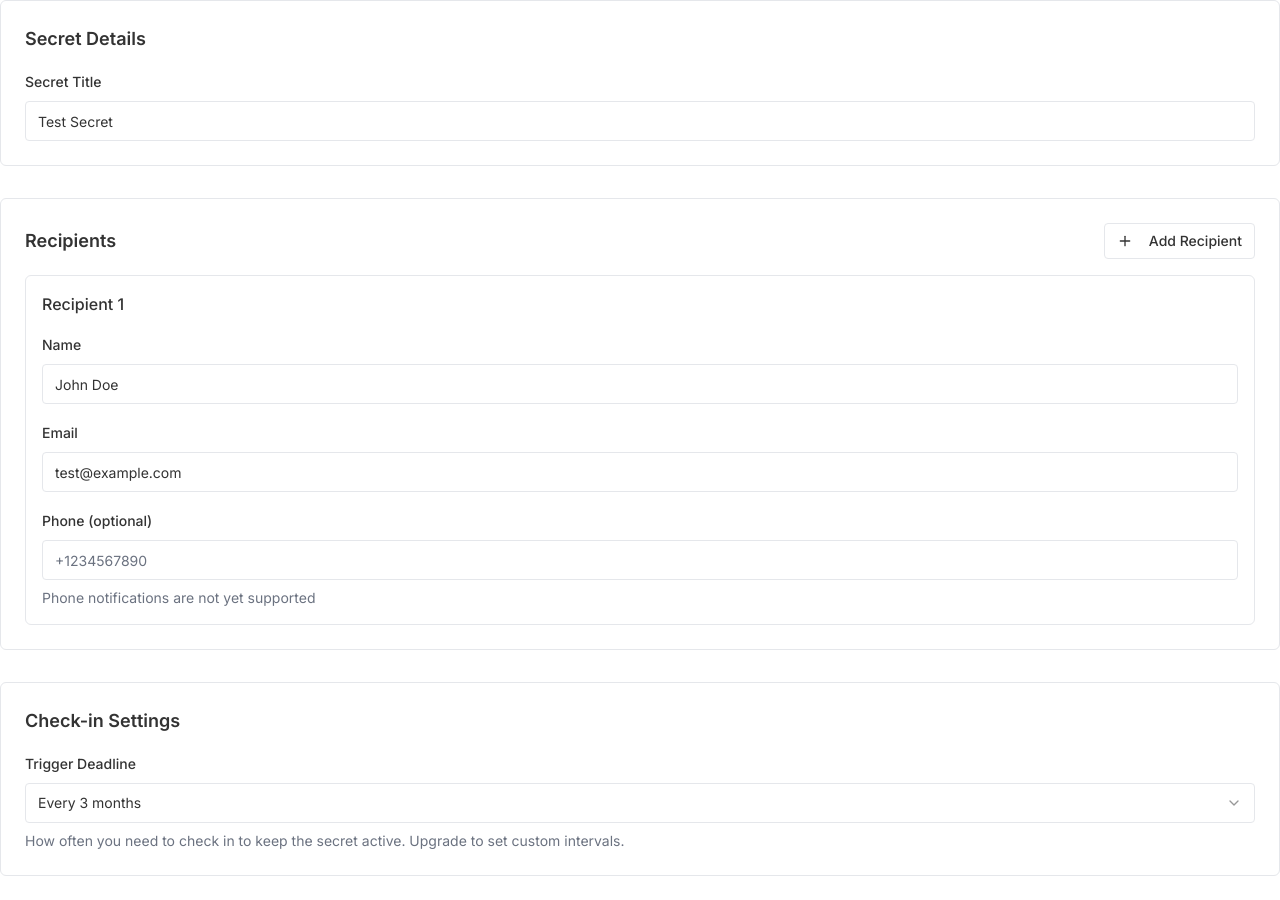
Scenario: EditSecretForm › should show select dropdown for free users
# Click to open dropdown and check options
Step 1. Click the dropdown named "trigger deadline" → click(90, 802), box [25,783,1255,823]
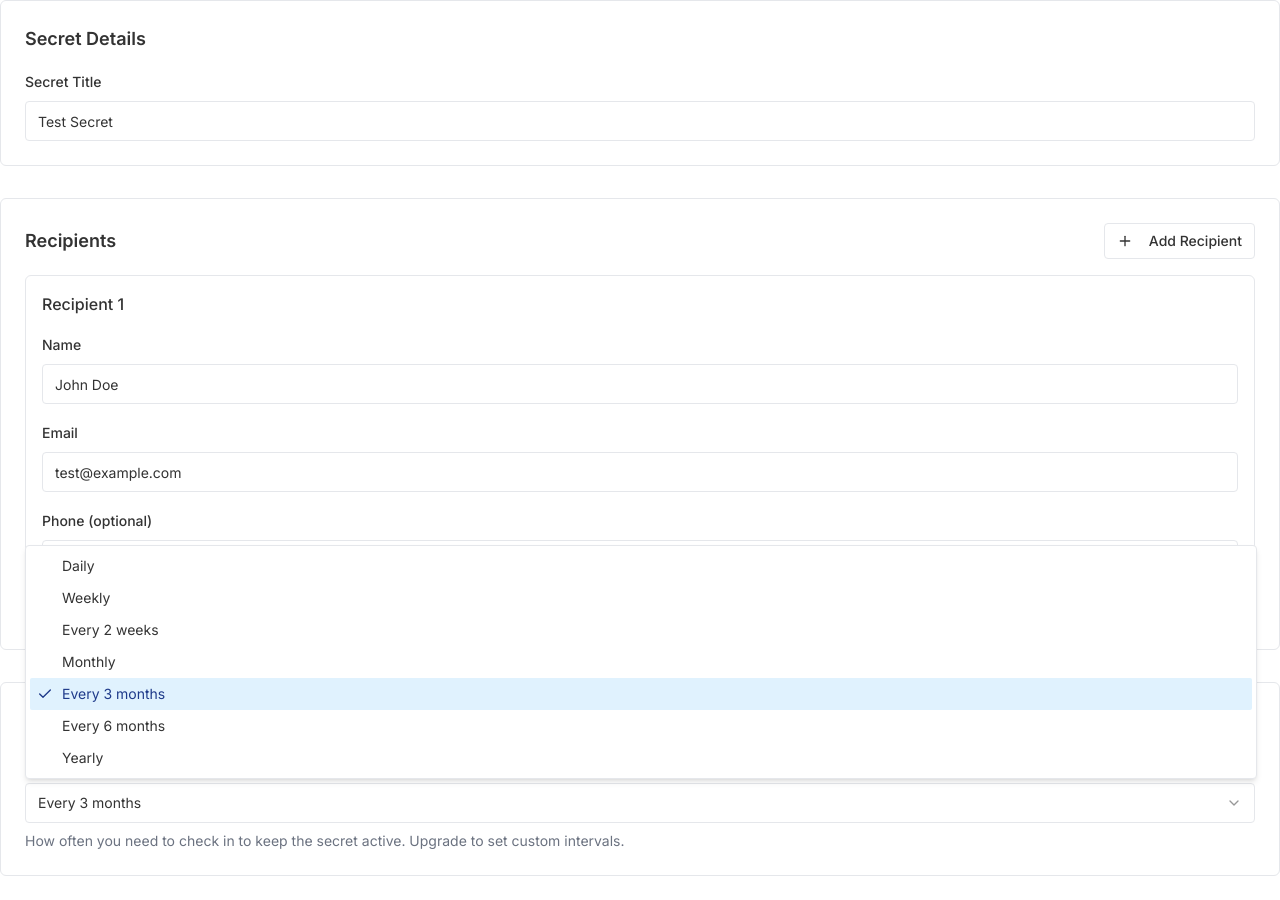
Expected: the option "Daily" is shown, [62,557,95,574]
Expected: the option "Weekly" is shown, [62,589,110,606]
Expected: the option "Monthly" is shown, [62,653,116,670]
